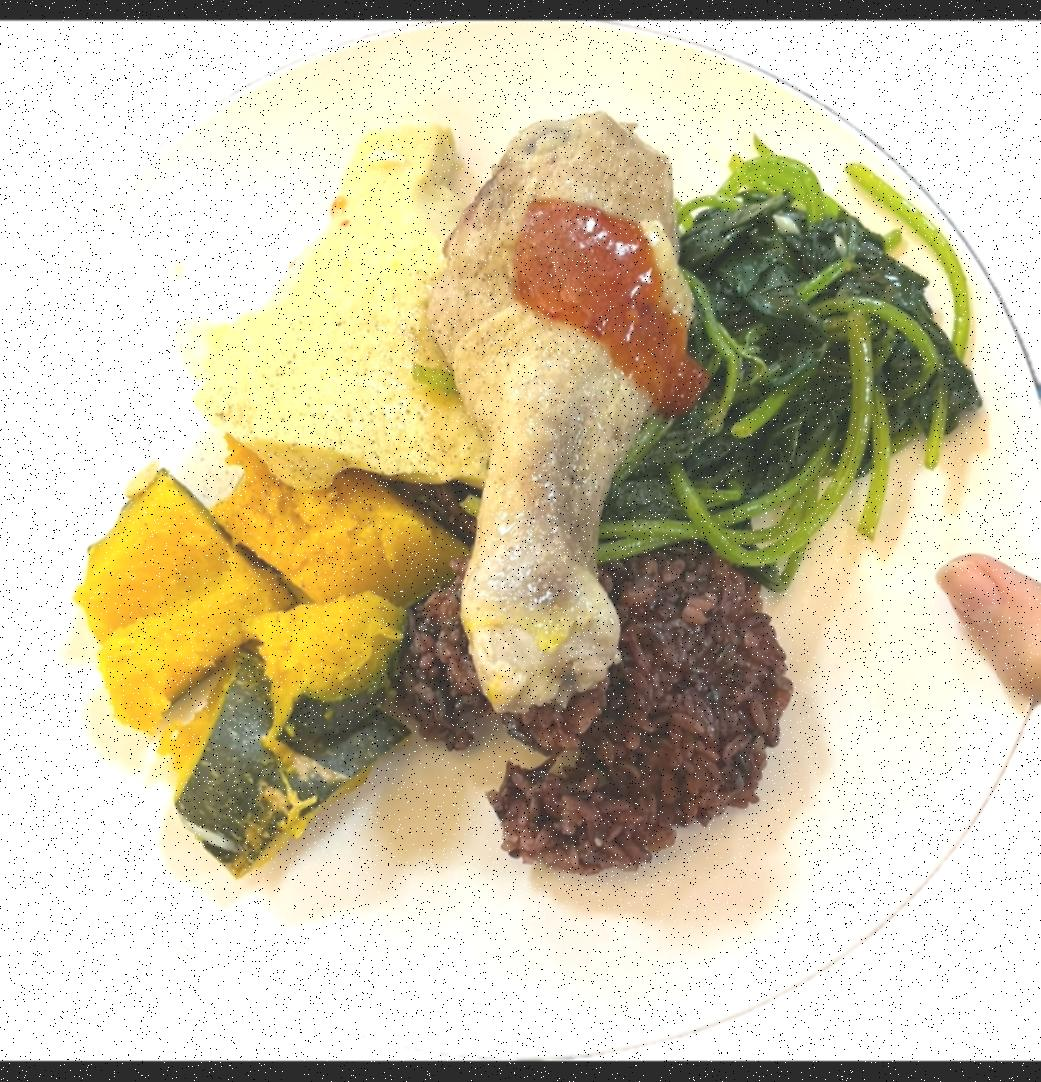big fried chicken leg: (0, 28, 1041, 1061)
braised fish: (398, 518, 786, 884)
braised fish fillet: (62, 444, 472, 876), (615, 135, 980, 574), (182, 114, 484, 494)
braised pork: (433, 107, 694, 718)
